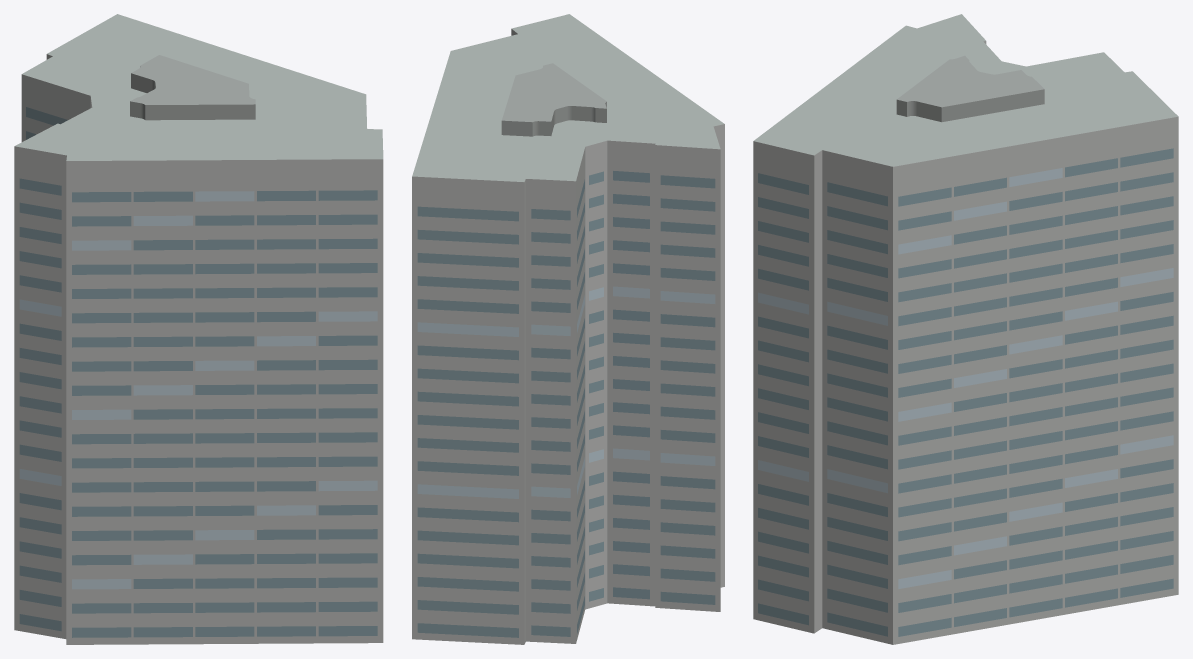
The model's file is apt-a13527018.glb.
3 views of the same model, side by side, from view 1: azimuth 30°, elevation 25°; view 2: azimuth 150°, elevation 25°; view 3: azimuth 270°, elevation 25° (orthographic). The views are drawn at different scales.
Visible parts, largest first — view 1: apt-a13527018; view 2: apt-a13527018; view 3: apt-a13527018.
Boxes of the visible parts, x1,y1,x2,y2 form: apt-a13527018: (14, 14, 383, 644); apt-a13527018: (412, 14, 724, 644); apt-a13527018: (753, 14, 1178, 644).
Size of the model in its own units: 52.73 by 79.3 by 62.
